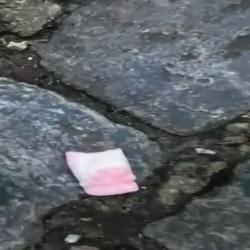Restaffald: (65, 148, 140, 195)
